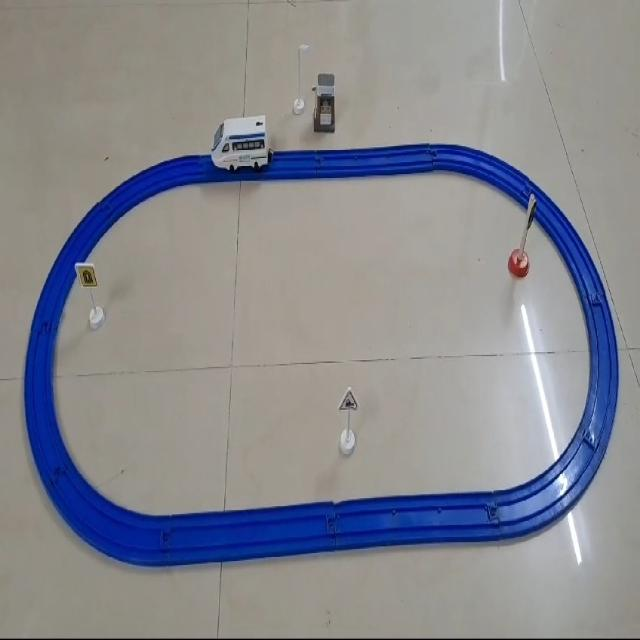bus: (210, 114, 270, 173)
